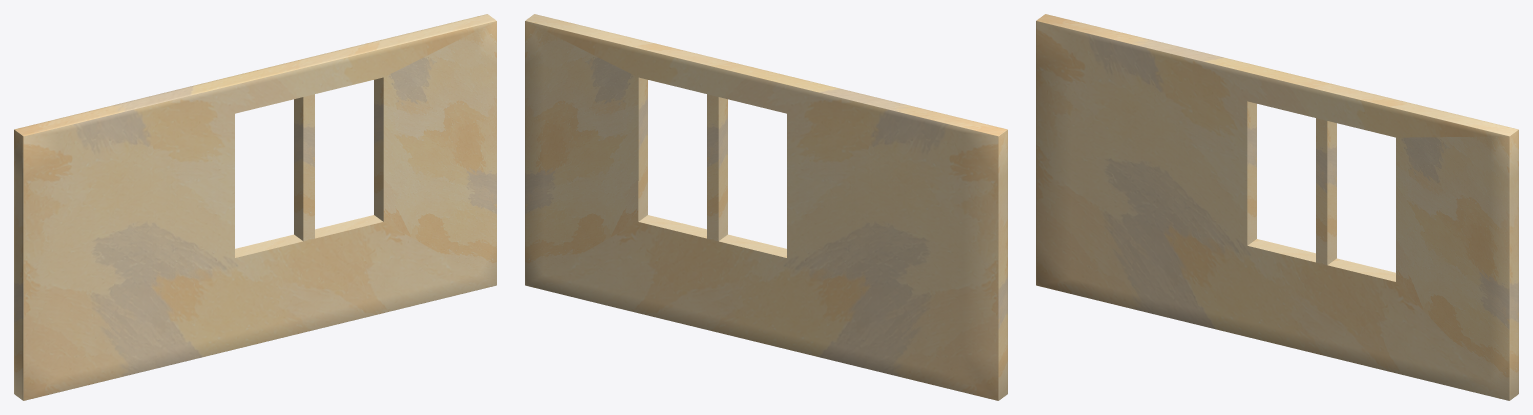
File: CM_C05_Plaster_2.fbx
The picture shows the model from 3 angles, left to right: view 1: azimuth 30°, elevation 25°; view 2: azimuth 150°, elevation 25°; view 3: azimuth 330°, elevation 25°; orthographic projection.
Visible parts, largest first — view 1: CM_C05_Plaster_2; view 2: CM_C05_Plaster_2; view 3: CM_C05_Plaster_2.
Boxes of the visible parts, box(x1,y1,x2,y2) form: CM_C05_Plaster_2: box(14, 14, 496, 400); CM_C05_Plaster_2: box(525, 14, 1007, 400); CM_C05_Plaster_2: box(1036, 14, 1518, 400).
Bounding box in the file's own units: 5.8 × 3.1 × 0.2043.
